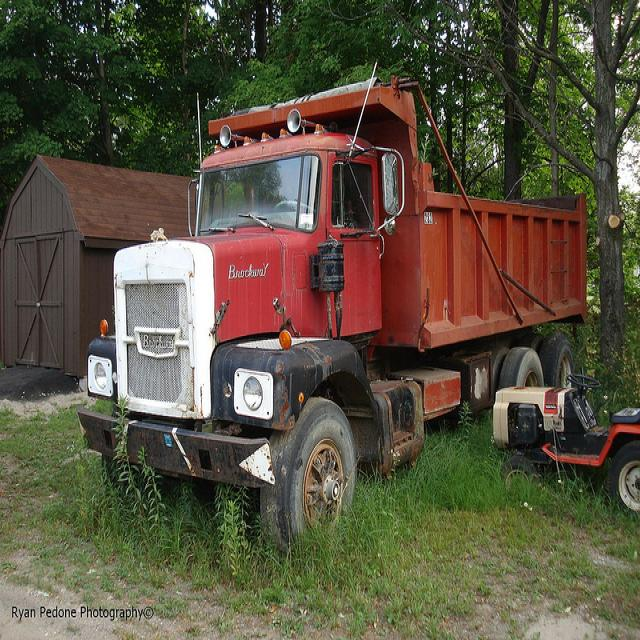Vehicle: (84, 83, 592, 541)
